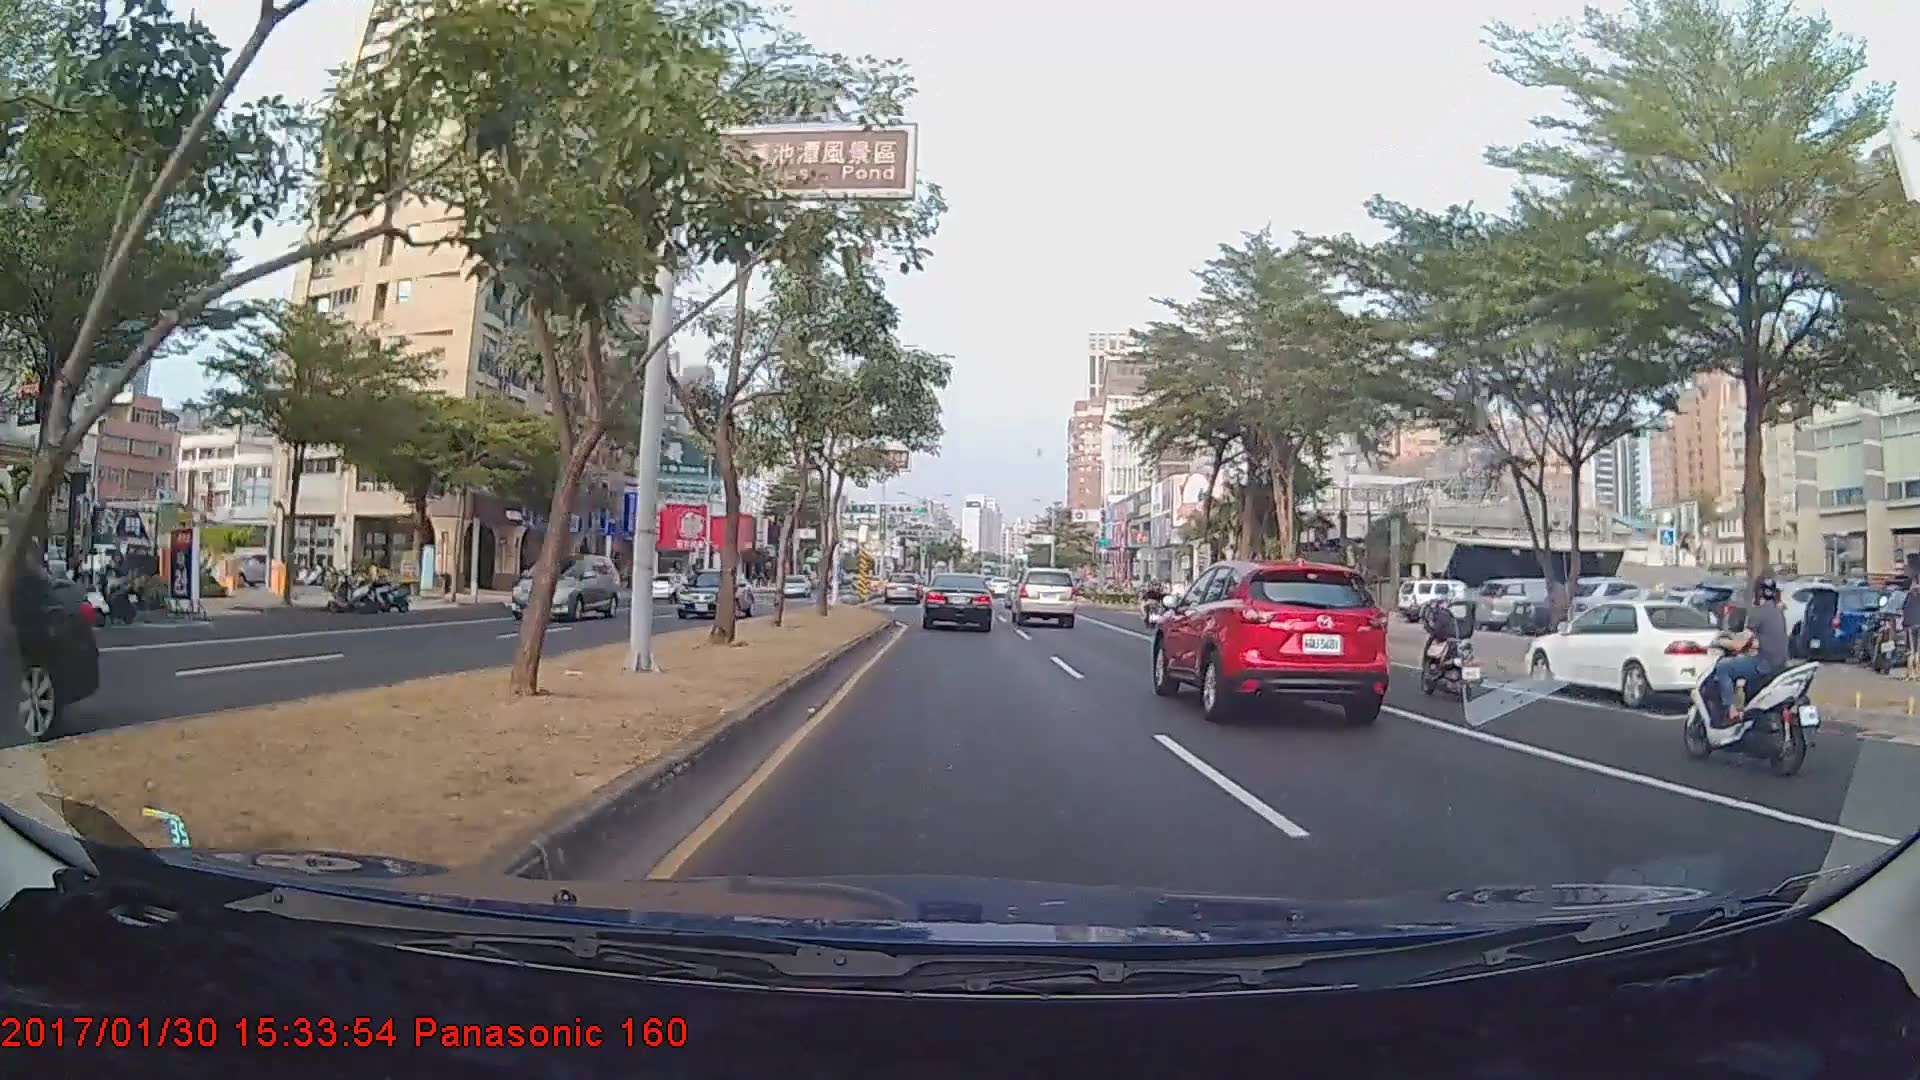pedestrian: (1819, 568, 1878, 668)
rider: (1676, 555, 1831, 776), (1407, 580, 1492, 703)
vehicle: (1150, 558, 1391, 728), (1524, 597, 1756, 707), (0, 511, 99, 754), (509, 552, 622, 622), (1472, 575, 1578, 633), (921, 571, 994, 632), (1009, 566, 1077, 628), (673, 568, 754, 617), (644, 571, 694, 602), (883, 571, 925, 605), (779, 575, 809, 600)
